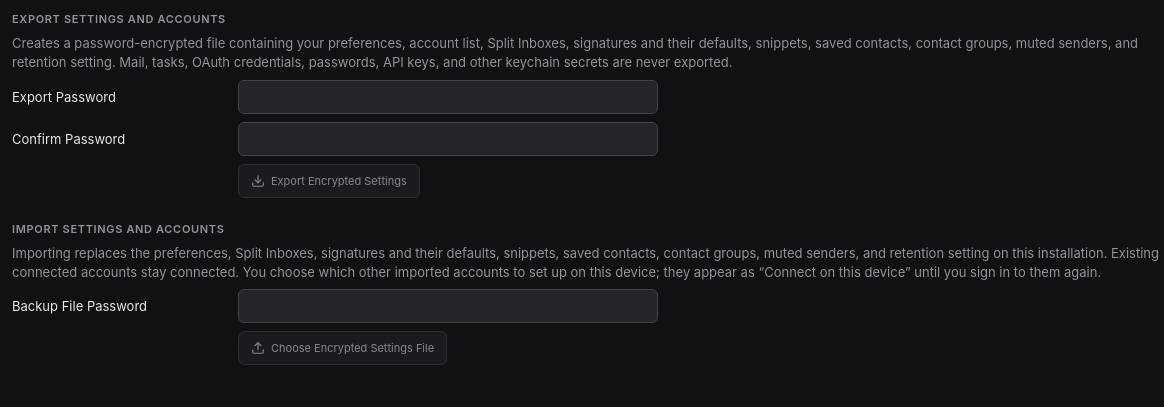
Test: data transfer settings › reports a successful export as a status
In the password field labelled "Export Password": (448, 97) left=238, top=80, right=658, bottom=114, type "correct horse"
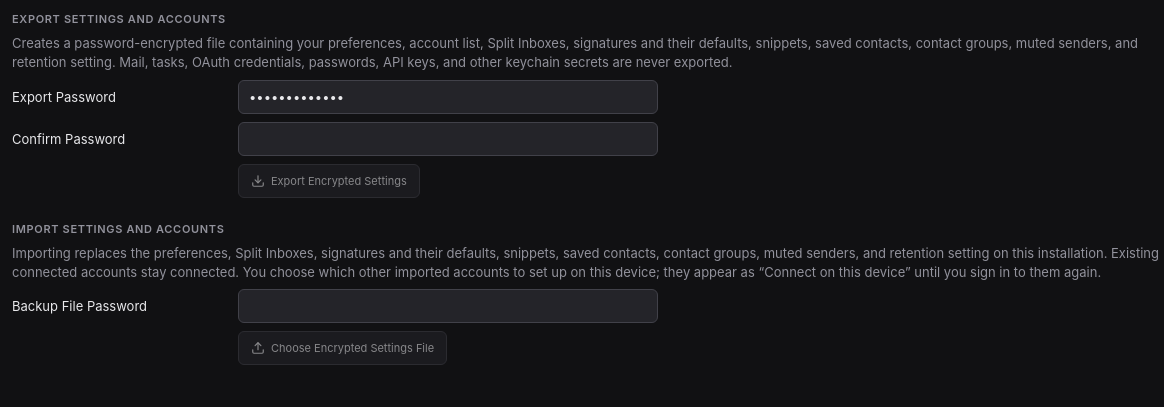
In the password field labelled "Confirm Password": (448, 139) left=238, top=122, right=658, bottom=156, type "correct horse"
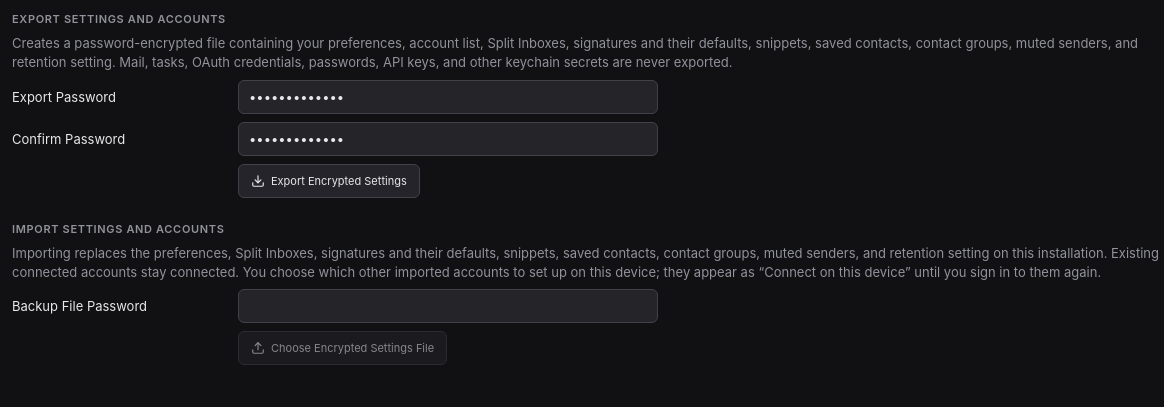
Click the button "Export Encrypted Settings": (329, 181) left=238, top=164, right=420, bottom=198
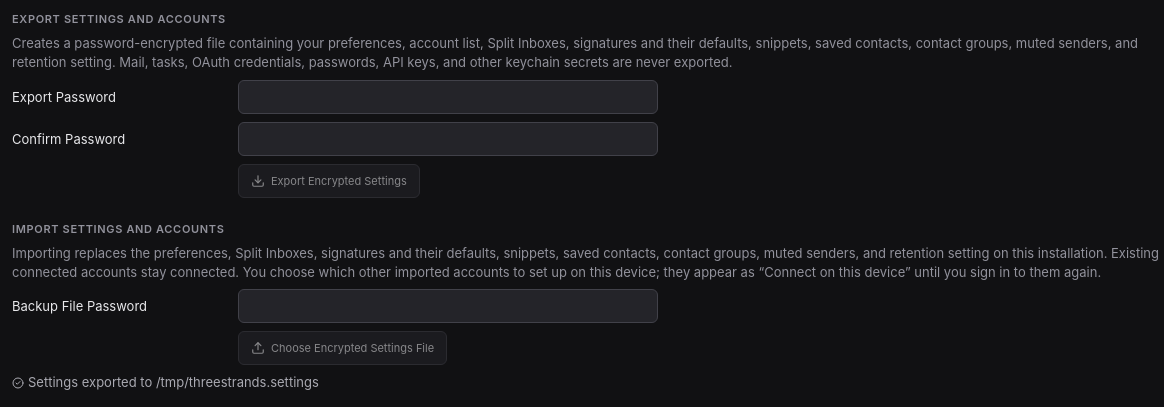
Now the message reads "Settings exported to /tmp/threestrands.settings", box left=28, top=374, right=319, bottom=390
